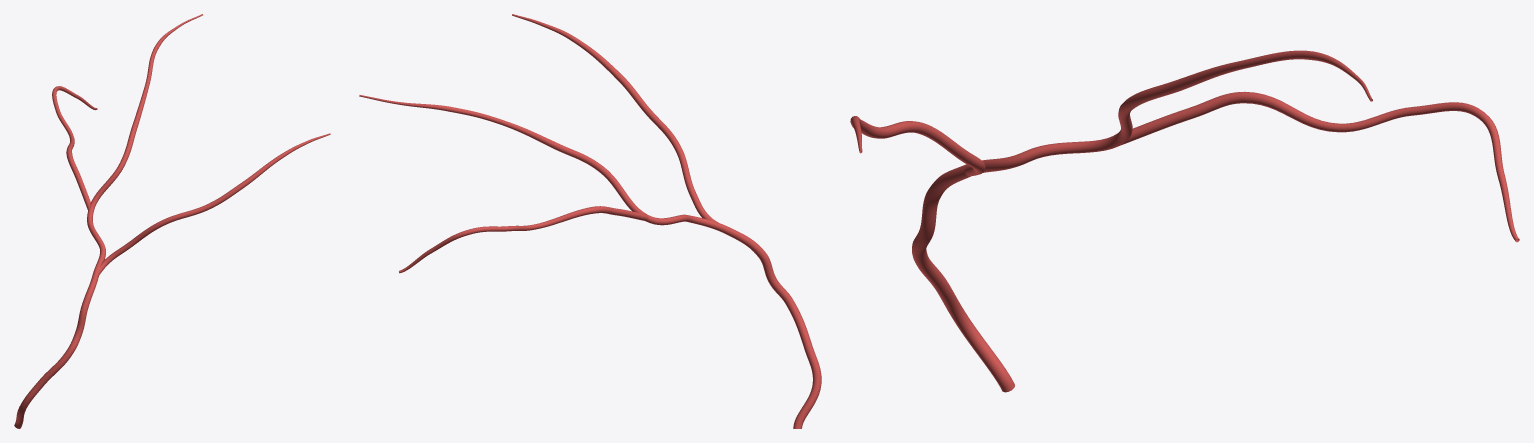
3 renders of one model, left to right at view 1: azimuth 30°, elevation 25°; view 2: azimuth 150°, elevation 25°; view 3: azimuth 270°, elevation 25°, orthographic. The views are drawn at different scales.
Parts seen in each view (by area): view 1: 右侧颞枕支; view 2: 右侧颞枕支; view 3: 右侧颞枕支.
Boxes of the visible parts, x1=… form: 右侧颞枕支: x1=14, y1=14, x2=330, y2=428; 右侧颞枕支: x1=359, y1=14, x2=821, y2=428; 右侧颞枕支: x1=850, y1=50, x2=1519, y2=392.
Bounding box in the file's own units: 0.066 × 0.0621 × 0.0672.
